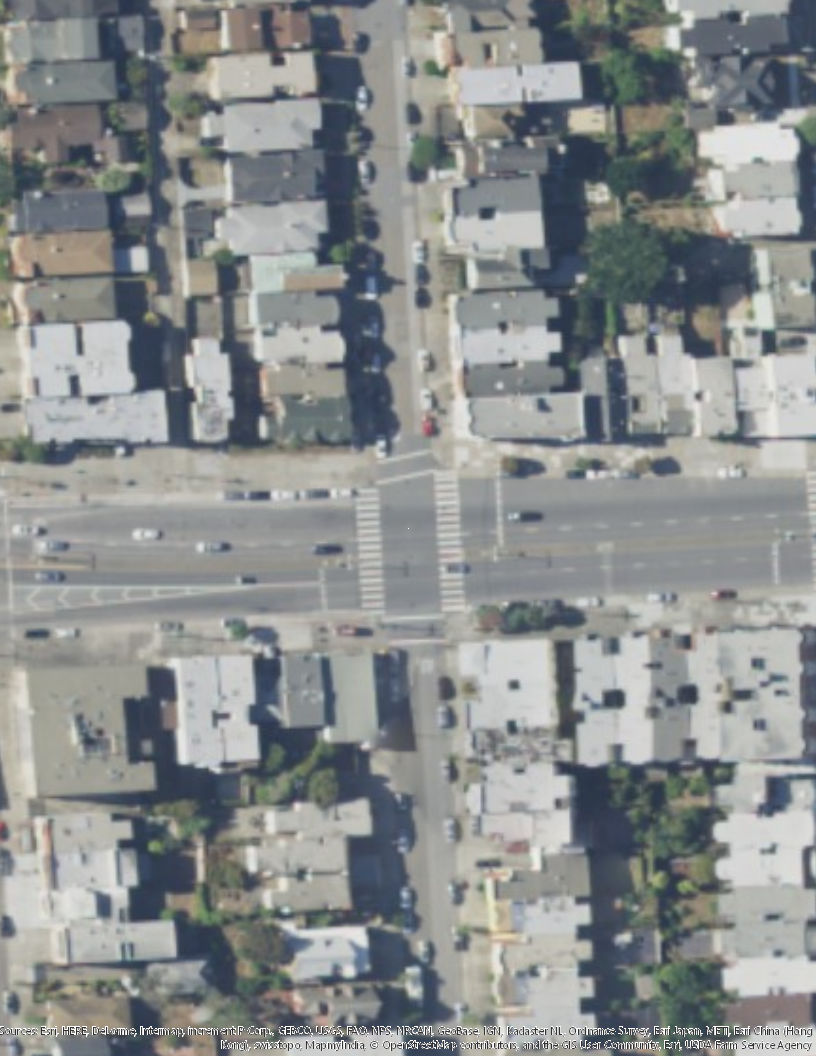zebracross: (431, 473, 469, 618), (351, 486, 390, 614)
